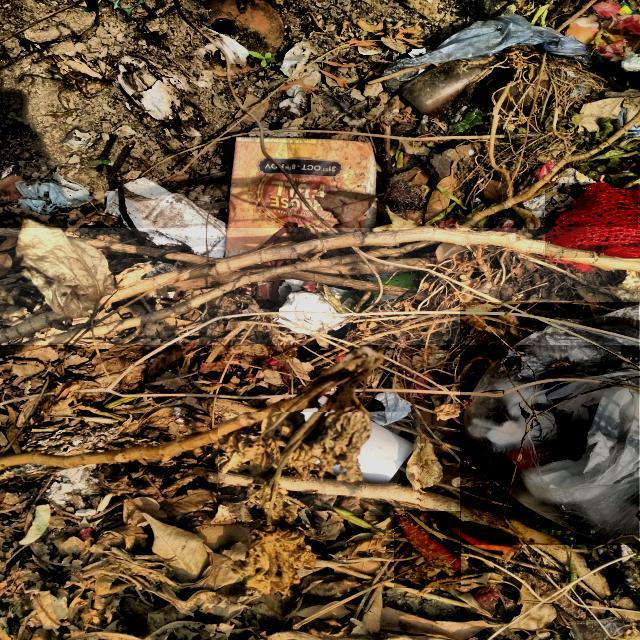anorganik: (460, 303, 640, 545), (399, 53, 511, 115), (545, 184, 639, 257)
organik: (0, 228, 640, 345), (219, 412, 419, 514), (394, 511, 461, 587), (279, 287, 353, 336)
